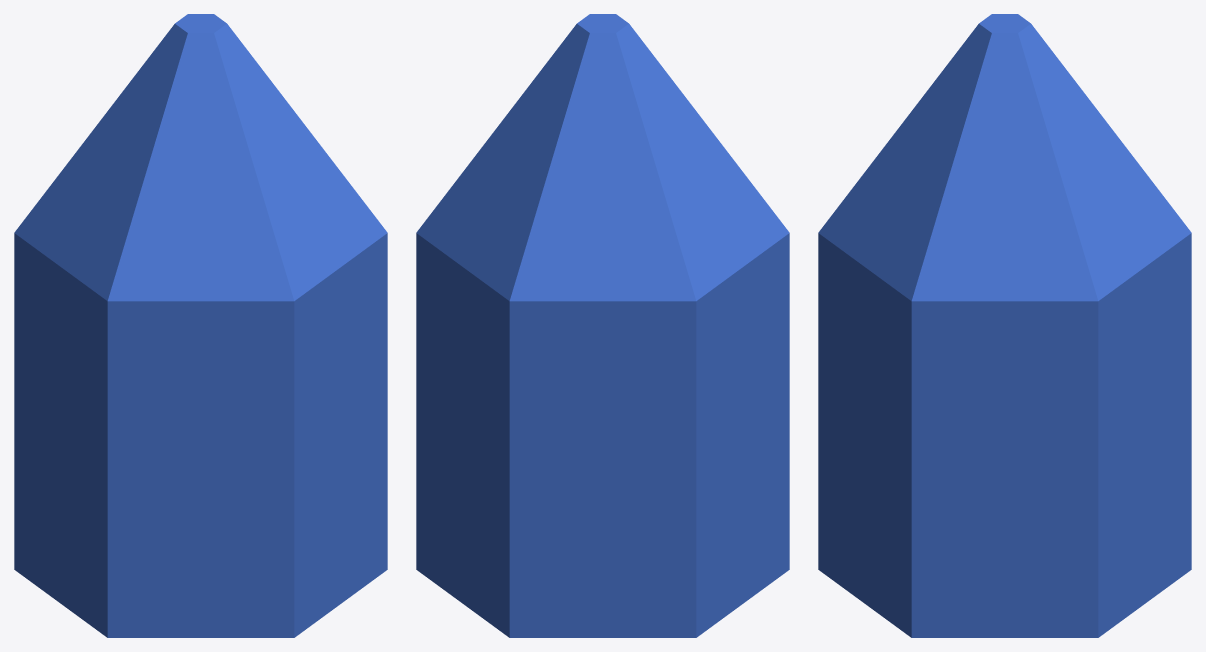
The model's file is item-cobalt.glb.
3 renders of one model, left to right at view 1: azimuth 30°, elevation 25°; view 2: azimuth 150°, elevation 25°; view 3: azimuth 270°, elevation 25°, orthographic.
Parts seen in each view (by area): view 1: item-cobalt; view 2: item-cobalt; view 3: item-cobalt.
Part boxes in pixels (x1,y1,x2,y2): item-cobalt: (14,14,387,637); item-cobalt: (416,14,789,637); item-cobalt: (818,14,1191,637).
Bounding box in the file's own units: 0.1611 × 0.3 × 0.186.
